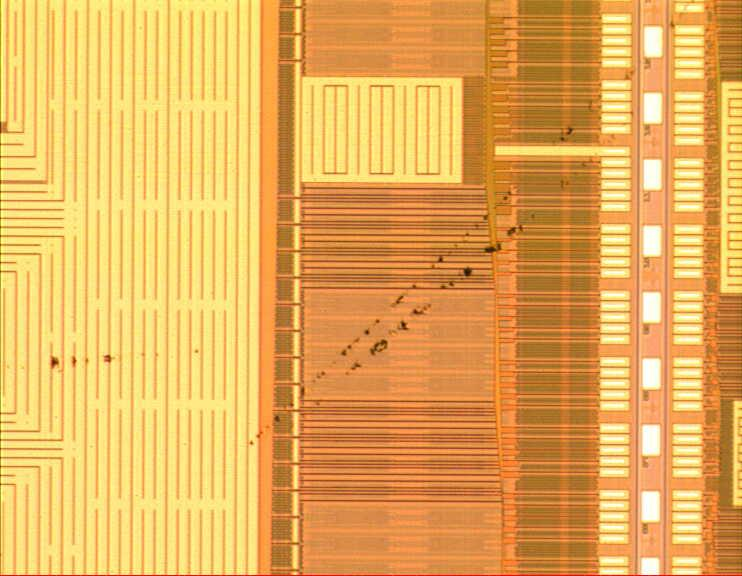SCRATCH: (3, 1, 702, 450)
